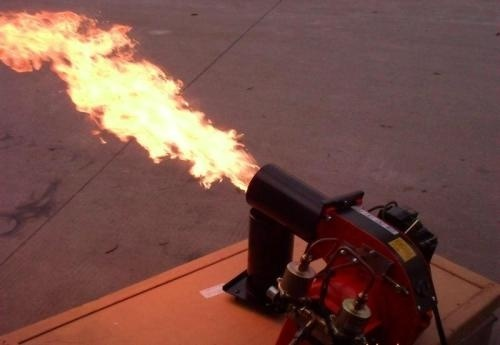fire: (0, 1, 262, 187)
